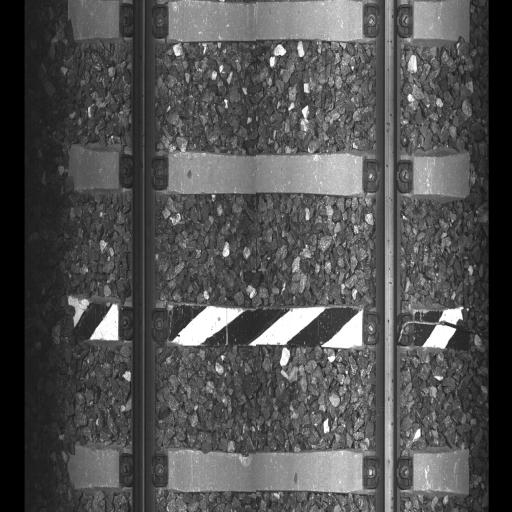sleeper: (66, 291, 470, 367), (61, 436, 469, 501), (68, 142, 470, 205), (70, 4, 470, 38)
